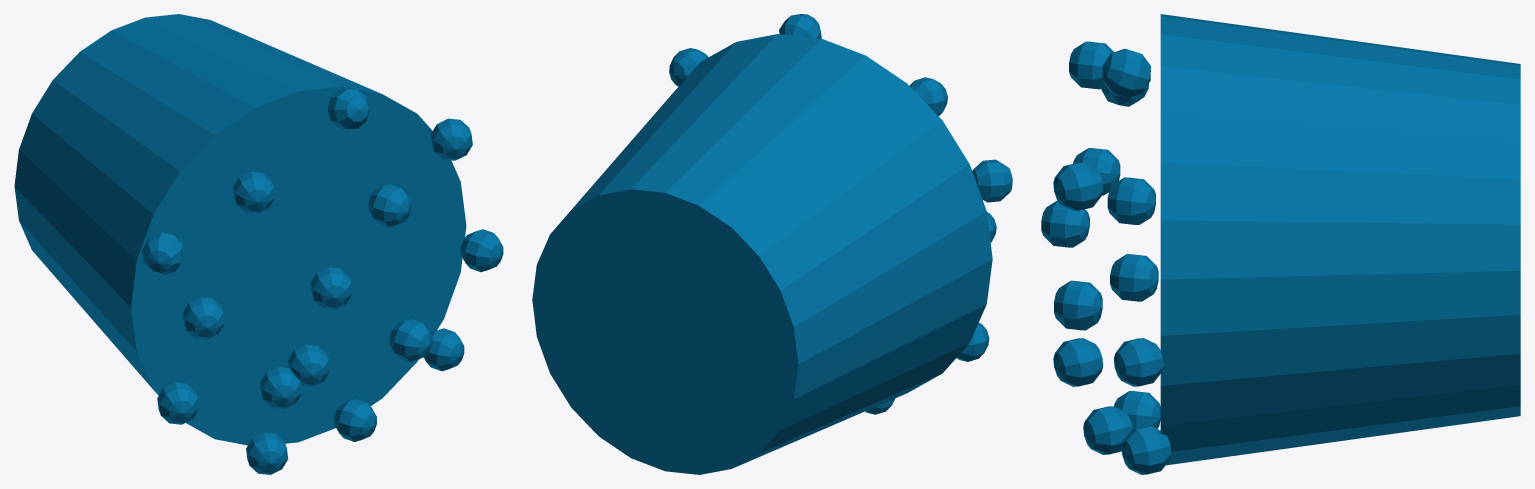
File: blueberry muffin.obj
3 views of the same model, side by side, from view 1: azimuth 30°, elevation 25°; view 2: azimuth 150°, elevation 25°; view 3: azimuth 270°, elevation 25° (orthographic). The views are drawn at different scales.
Visible parts, largest first — view 1: obj_0; view 2: obj_0; view 3: obj_0.
Boxes of the visible parts, x1,y1,x2,y2 form: obj_0: (14, 14, 503, 474); obj_0: (532, 14, 1012, 474); obj_0: (1041, 14, 1520, 474).
Size of the model in its own units: 192 by 186 by 188.
